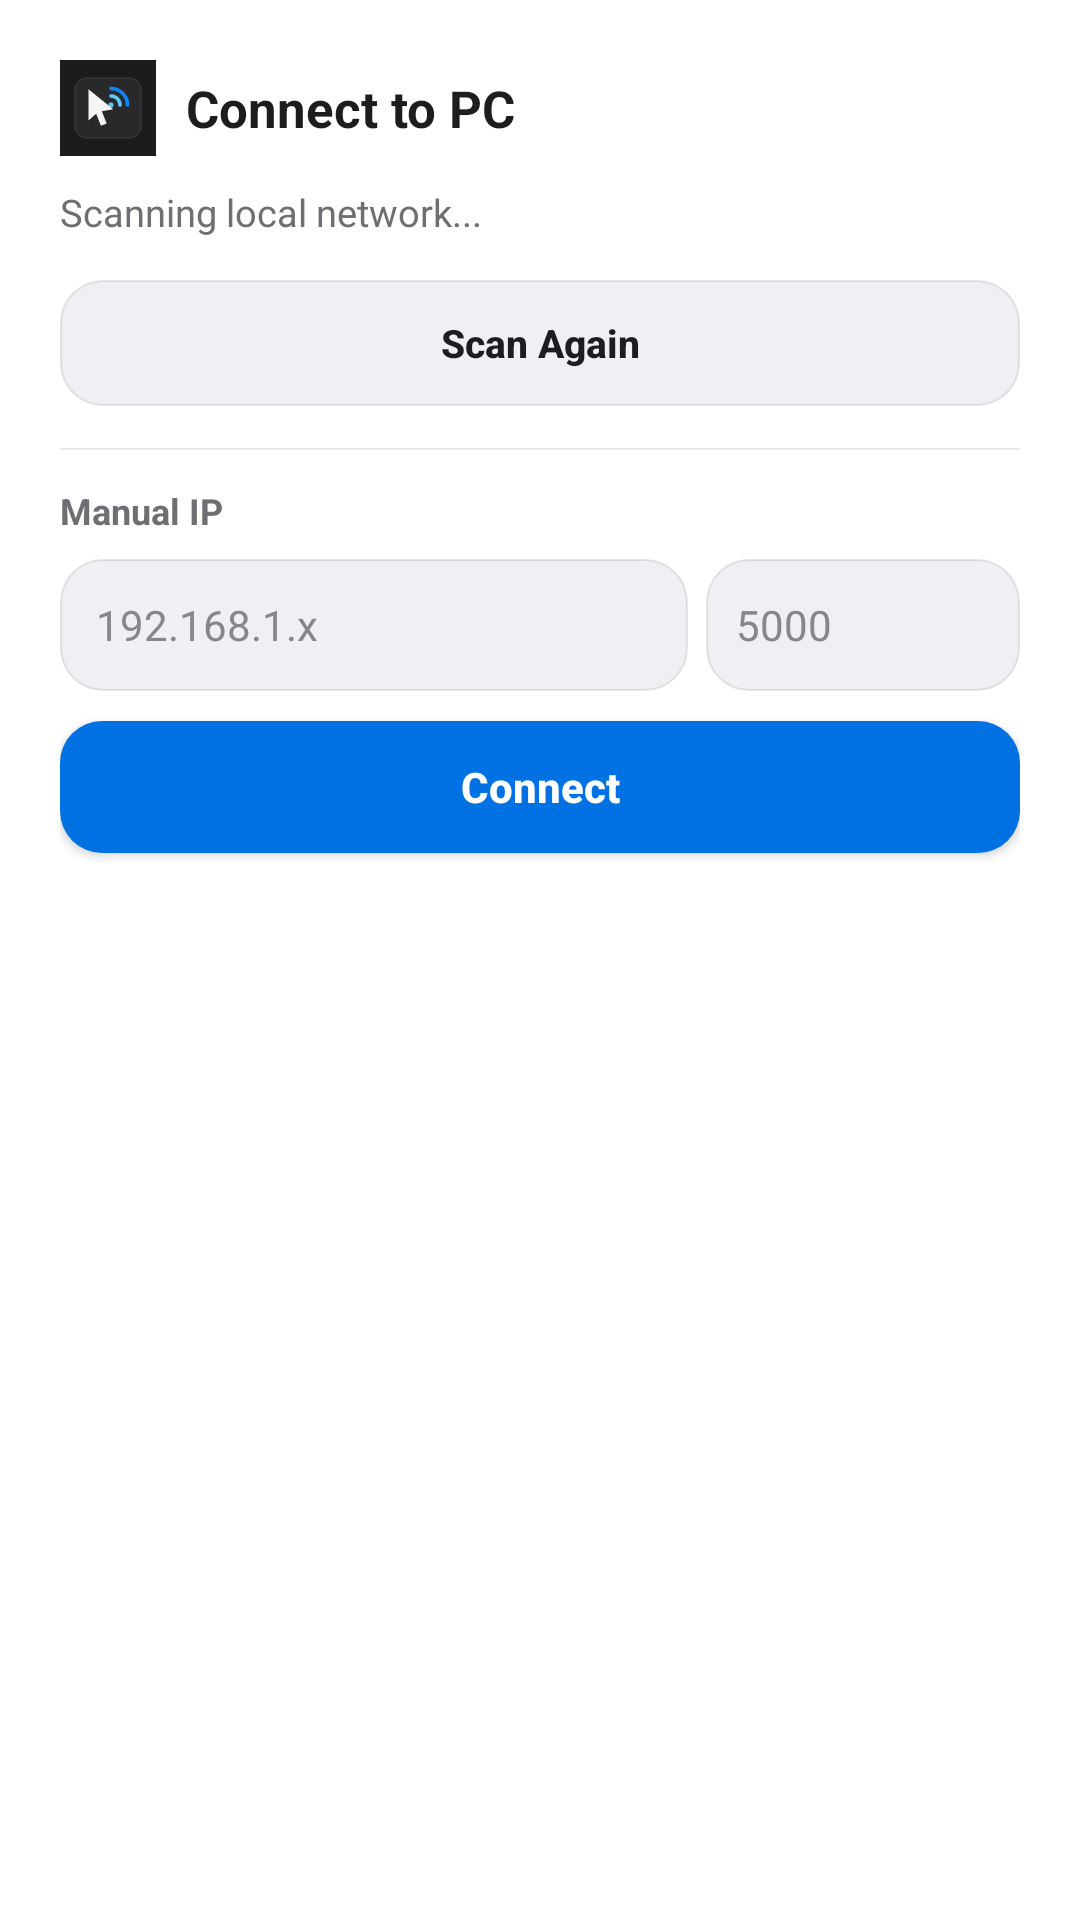

Named icons in this screenshot (1080 x 1920) and their bounding boxes, [x1, y1, x2, y2]:
app: [60, 60, 156, 156]
